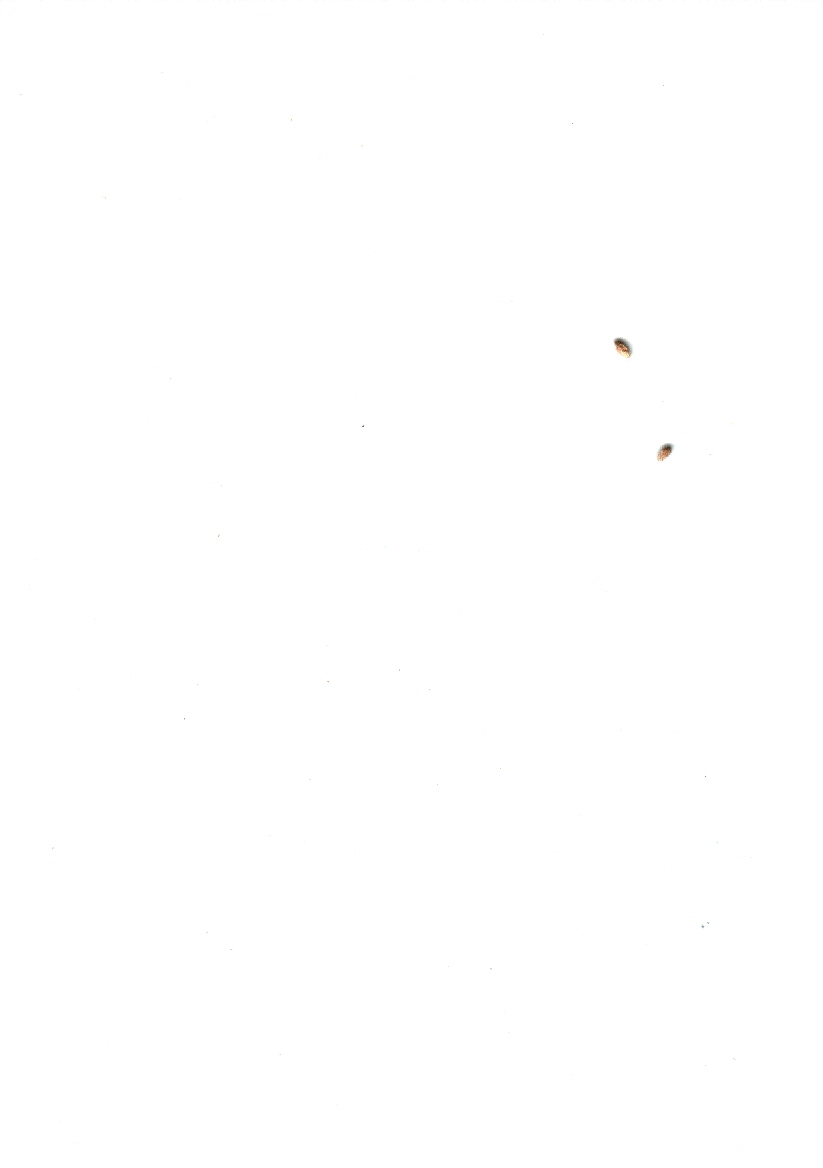grains: (647, 436, 685, 481), (607, 329, 640, 373)
